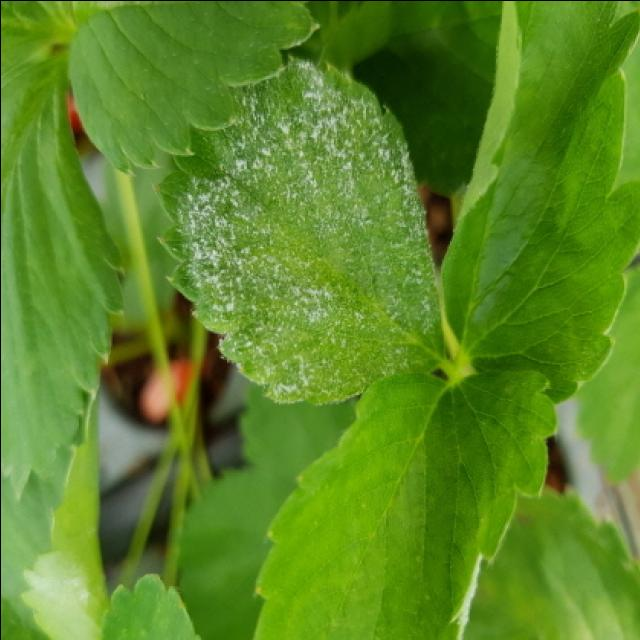Powdery Mildew Leaf: (152, 51, 446, 406)
